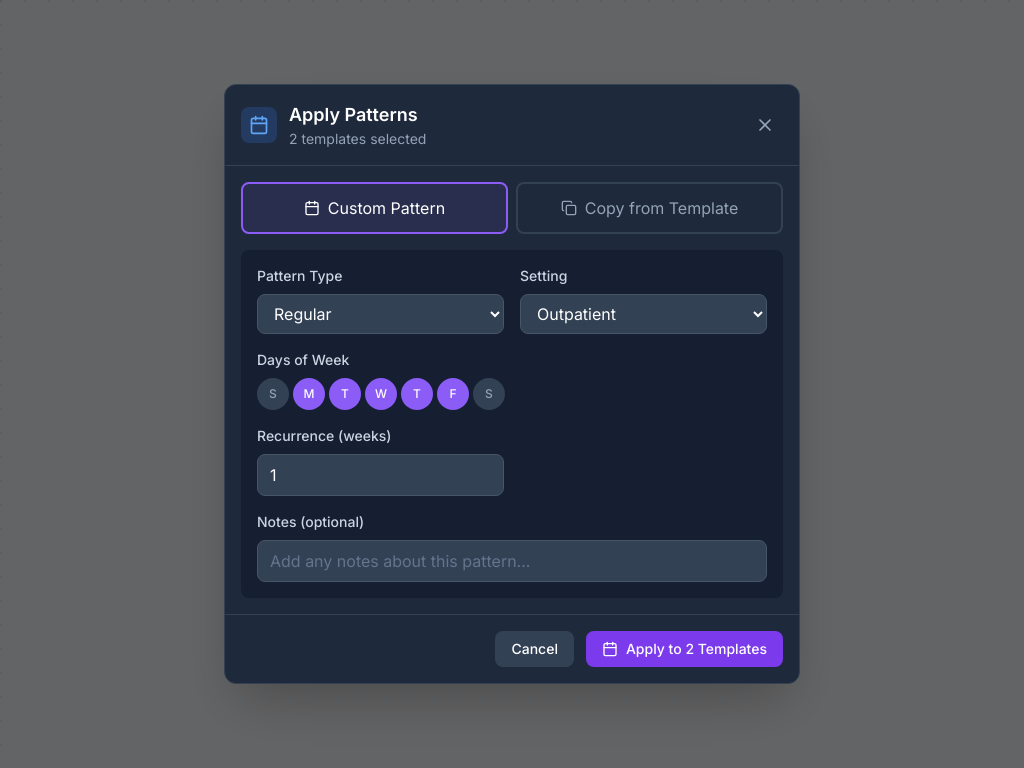
Scenario: BulkPatternModal › Mode Selection › should show source template dropdown in copy mode
Click the button "Copy from Template" at (650, 208), box [516,182,783,234]
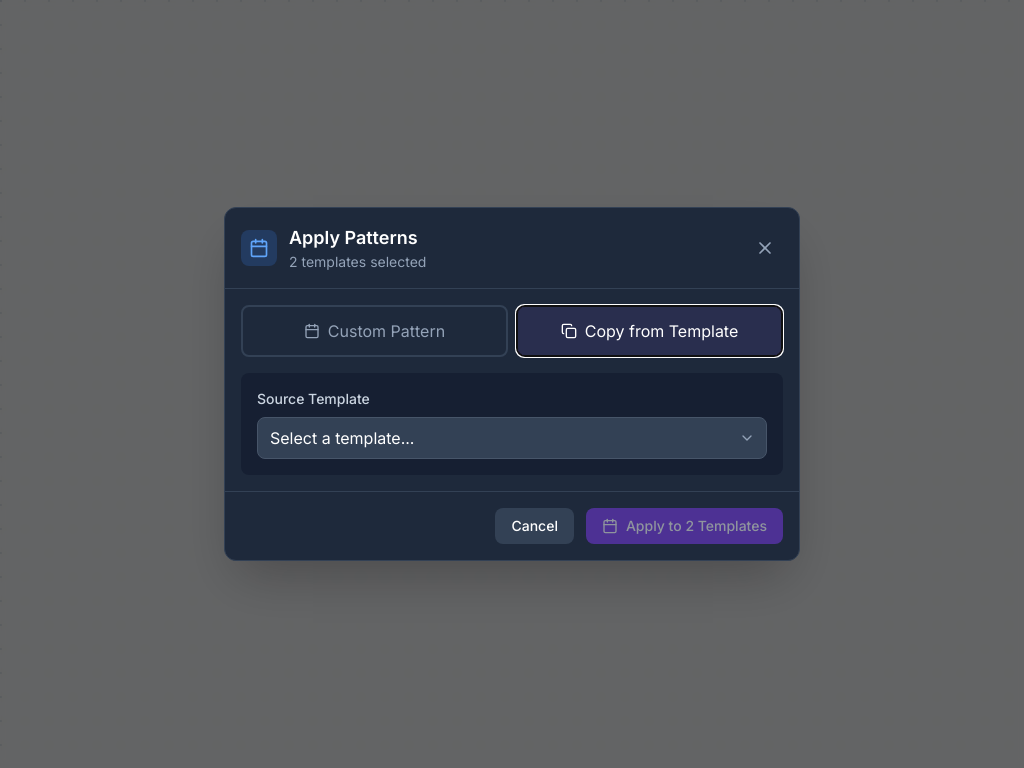
Check: the text "Source Template" is shown, box [257,390,370,407]
